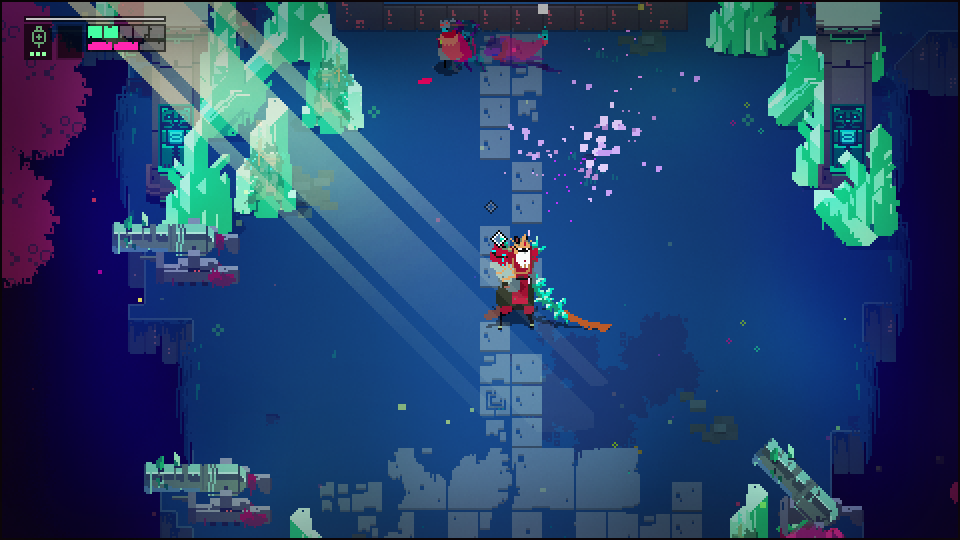hanged_man: (487, 231, 575, 336)
player: (438, 17, 470, 71)
